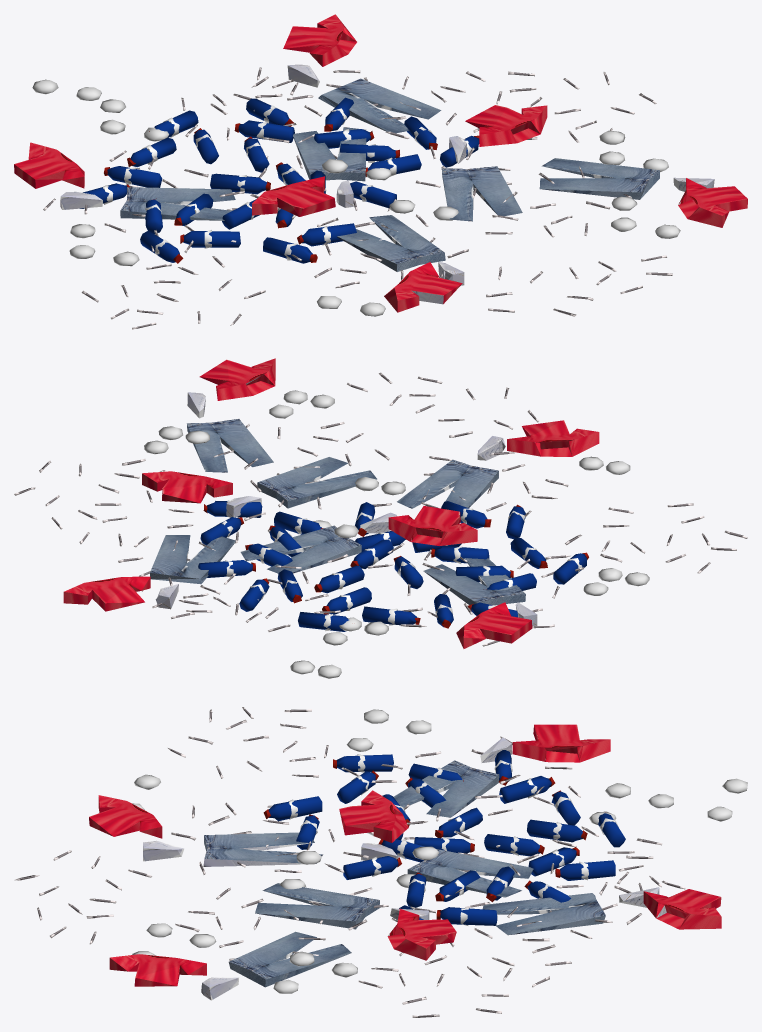
File: genskrald2.fbx
3 views of the same model, one above another, from view 1: azimuth 30°, elevation 25°; view 2: azimuth 150°, elevation 25°; view 3: azimuth 270°, elevation 25° (orthographic). The views are drawn at different scales.
Parts seen in each view (by area): view 1: Cylinder.001; view 2: Cylinder.001; view 3: Cylinder.001.
Part boxes in pixels (box(x1,y1,x2,y2)): Cylinder.001: box(14, 14, 747, 329); Cylinder.001: box(14, 358, 747, 678); Cylinder.001: box(14, 707, 747, 1017).
Size of the model in its own units: 214 by 8.88 by 215.
